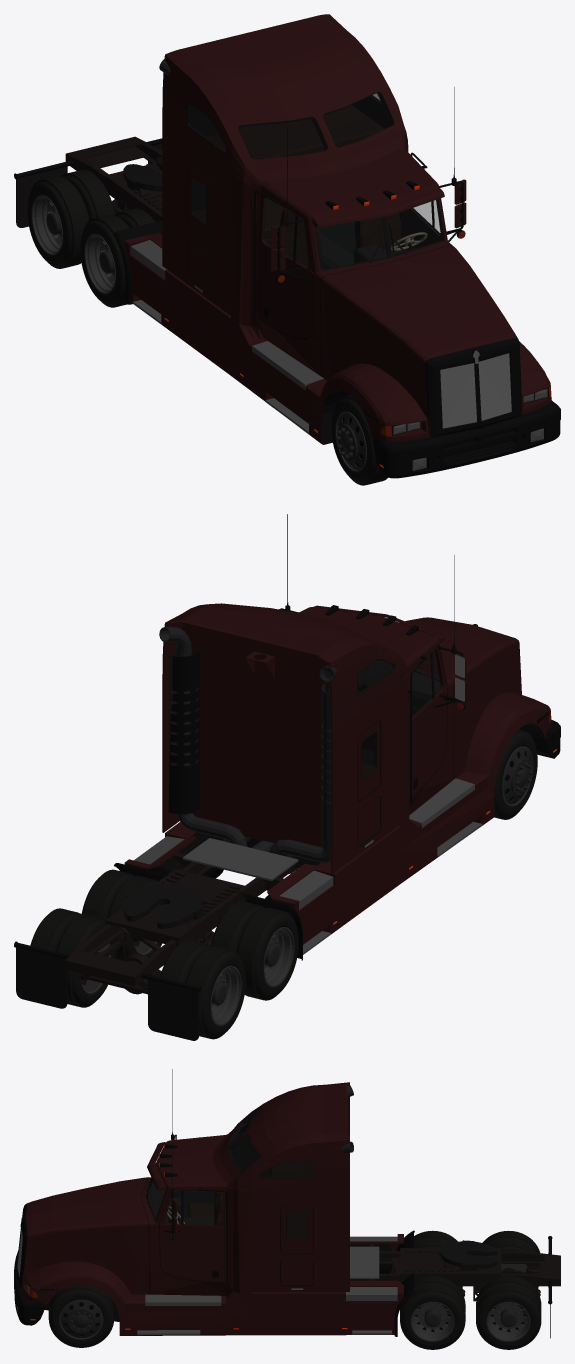
3 renders of one model, top to bottom at view 1: azimuth 30°, elevation 25°; view 2: azimuth 150°, elevation 25°; view 3: azimuth 270°, elevation 25°, orthographic. The views are drawn at different scales.
Parts seen in each view (by area): view 1: Body, RightBackTires2, RightBackTires1, RightFrontWheel; view 2: Body, RightBackTires1, Exhaust Pipe, RightBackTires2, LeftBackTires2, RightFrontWheel, LeftBackTires1; view 3: Body, LeftBackTires2, LeftBackTires1, LeftFrontWheel, RightBackTires2, RightBackTires1.
Part boxes in pixels (bbox=[...]): Body: bbox=[14, 14, 560, 478]; RightBackTires2: bbox=[27, 169, 114, 268]; RightBackTires1: bbox=[80, 208, 155, 307]; RightFrontWheel: bbox=[331, 395, 388, 485]; Body: bbox=[14, 514, 560, 1040]; RightBackTires1: bbox=[211, 901, 298, 1000]; Exhaust Pipe: bbox=[159, 626, 337, 873]; RightBackTires2: bbox=[160, 940, 245, 1039]; LeftBackTires2: bbox=[30, 908, 116, 1007]; RightFrontWheel: bbox=[494, 729, 537, 819]; LeftBackTires1: bbox=[81, 869, 162, 959]; Body: bbox=[14, 1069, 560, 1338]; LeftBackTires2: bbox=[476, 1276, 541, 1349]; LeftBackTires1: bbox=[400, 1276, 465, 1349]; LeftFrontWheel: bbox=[48, 1285, 114, 1347]; RightBackTires2: bbox=[482, 1230, 540, 1286]; RightBackTires1: bbox=[414, 1230, 462, 1286].
Size of the model in its own units: 72.05 by 109 by 244.
